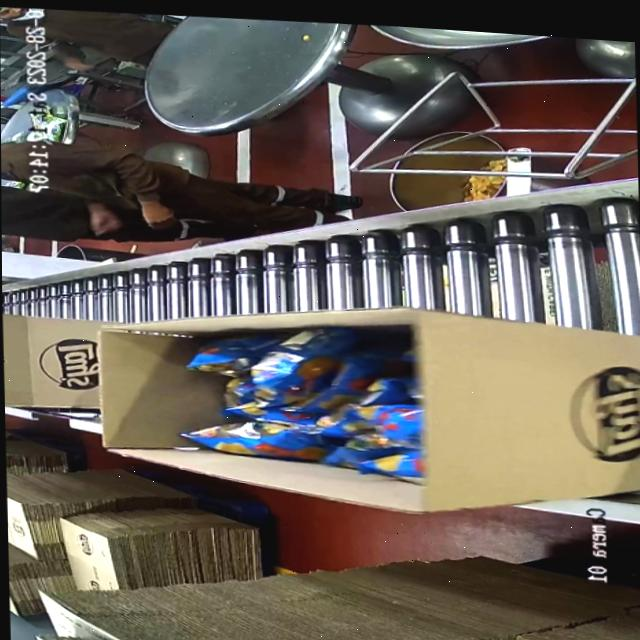PAPRIKA: (167, 325, 429, 494)
